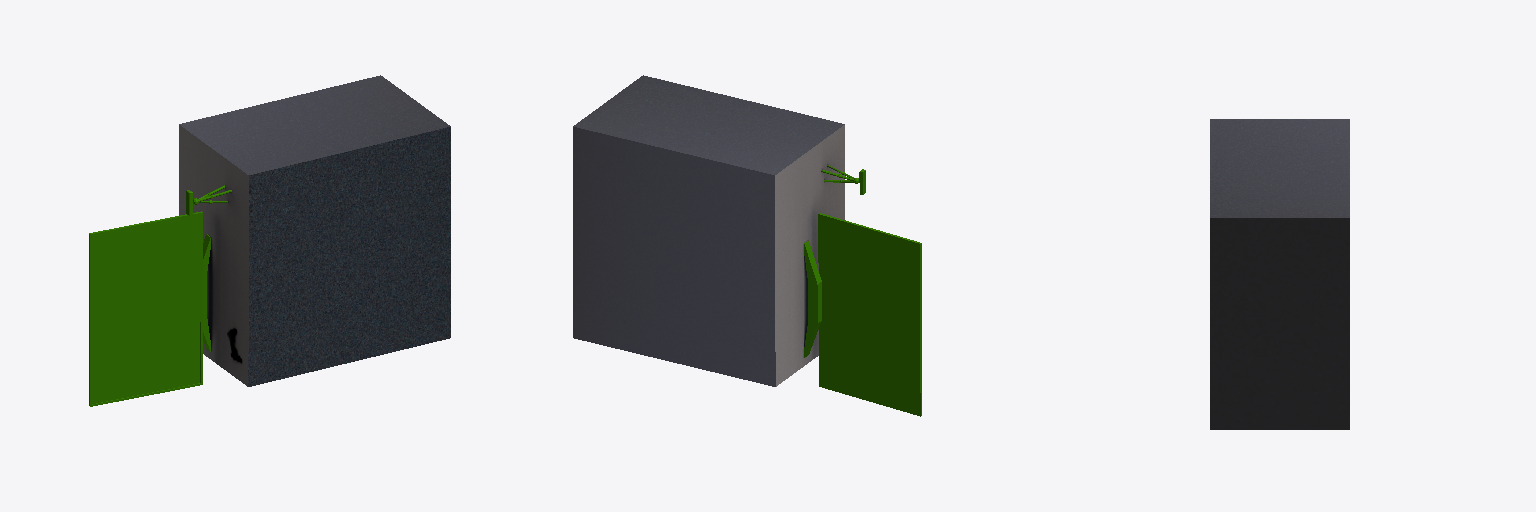
The picture shows the model from 3 angles: view 1: azimuth 30°, elevation 25°; view 2: azimuth 150°, elevation 25°; view 3: azimuth 270°, elevation 25°; orthographic projection.
Visible parts, largest first — view 1: Box4979; view 2: Box4979; view 3: Box4979.
Boxes of the visible parts, box(x1,y1,x2,y2) form: Box4979: box(89, 75, 450, 406); Box4979: box(573, 75, 921, 416); Box4979: box(1210, 119, 1349, 429).
Bounding box in the file's own units: 62.3 × 43.32 × 23.62.
2 materials, 1 textured.